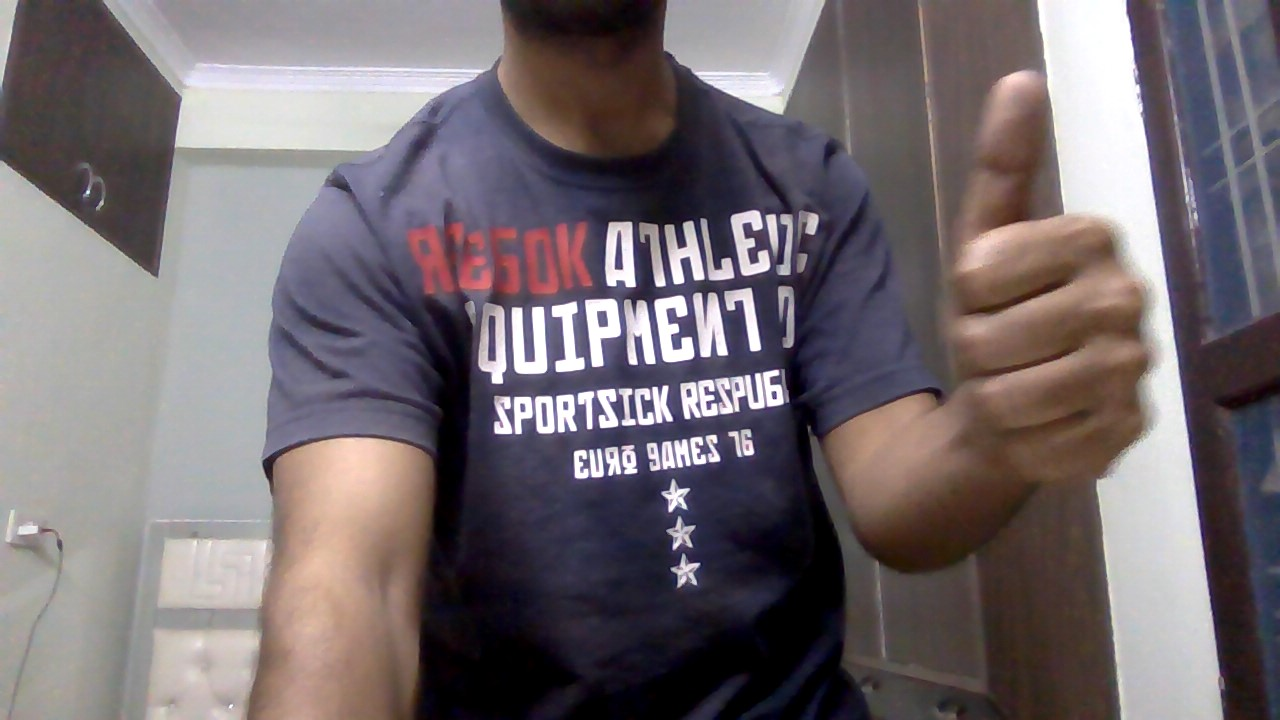Save: (926, 62, 1174, 504)
